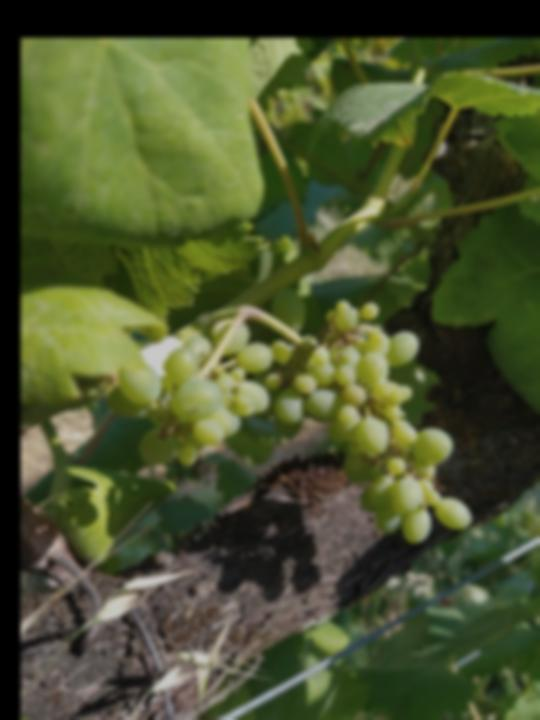grape: (103, 287, 478, 547)
